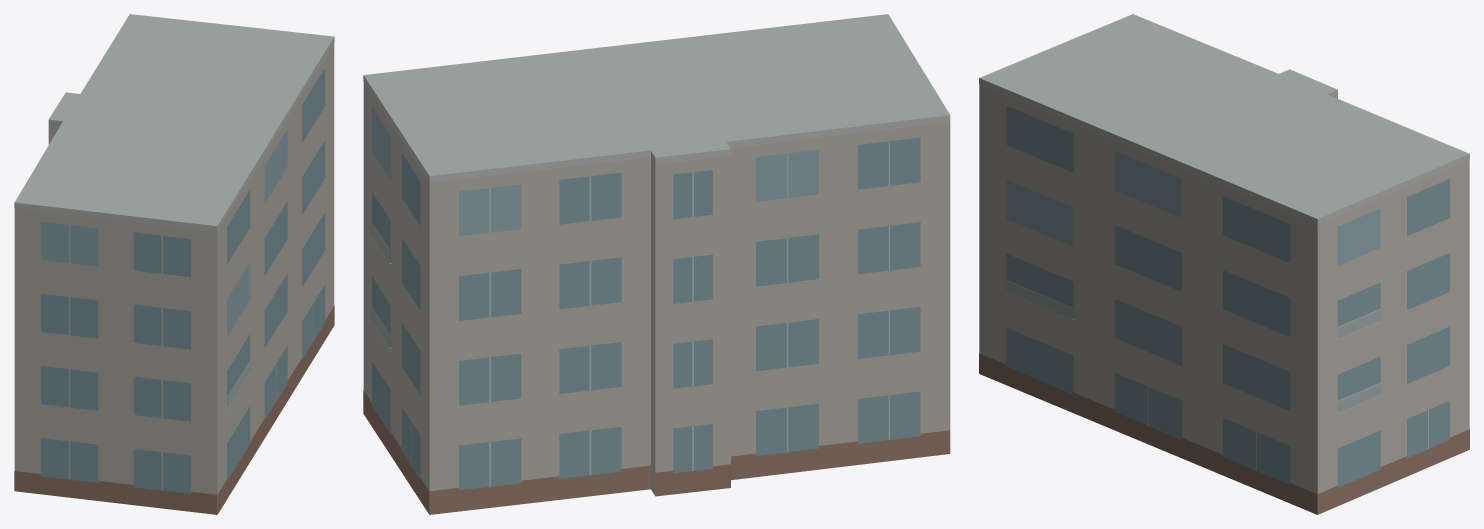
File: survey-upis-32805544.glb
3 views of the same model, side by side, from view 1: azimuth 30°, elevation 25°; view 2: azimuth 150°, elevation 25°; view 3: azimuth 270°, elevation 25° (orthographic). The views are drawn at different scales.
Parts seen in each view (by area): view 1: survey-upis-32805544.tmp; view 2: survey-upis-32805544.tmp; view 3: survey-upis-32805544.tmp.
Boxes of the visible parts, x1=… form: survey-upis-32805544.tmp: x1=14, y1=14, x2=334, y2=514; survey-upis-32805544.tmp: x1=363, y1=14, x2=950, y2=514; survey-upis-32805544.tmp: x1=979, y1=14, x2=1469, y2=514.
Bounding box in the file's own units: 18.14 × 12.2 × 18.34.
